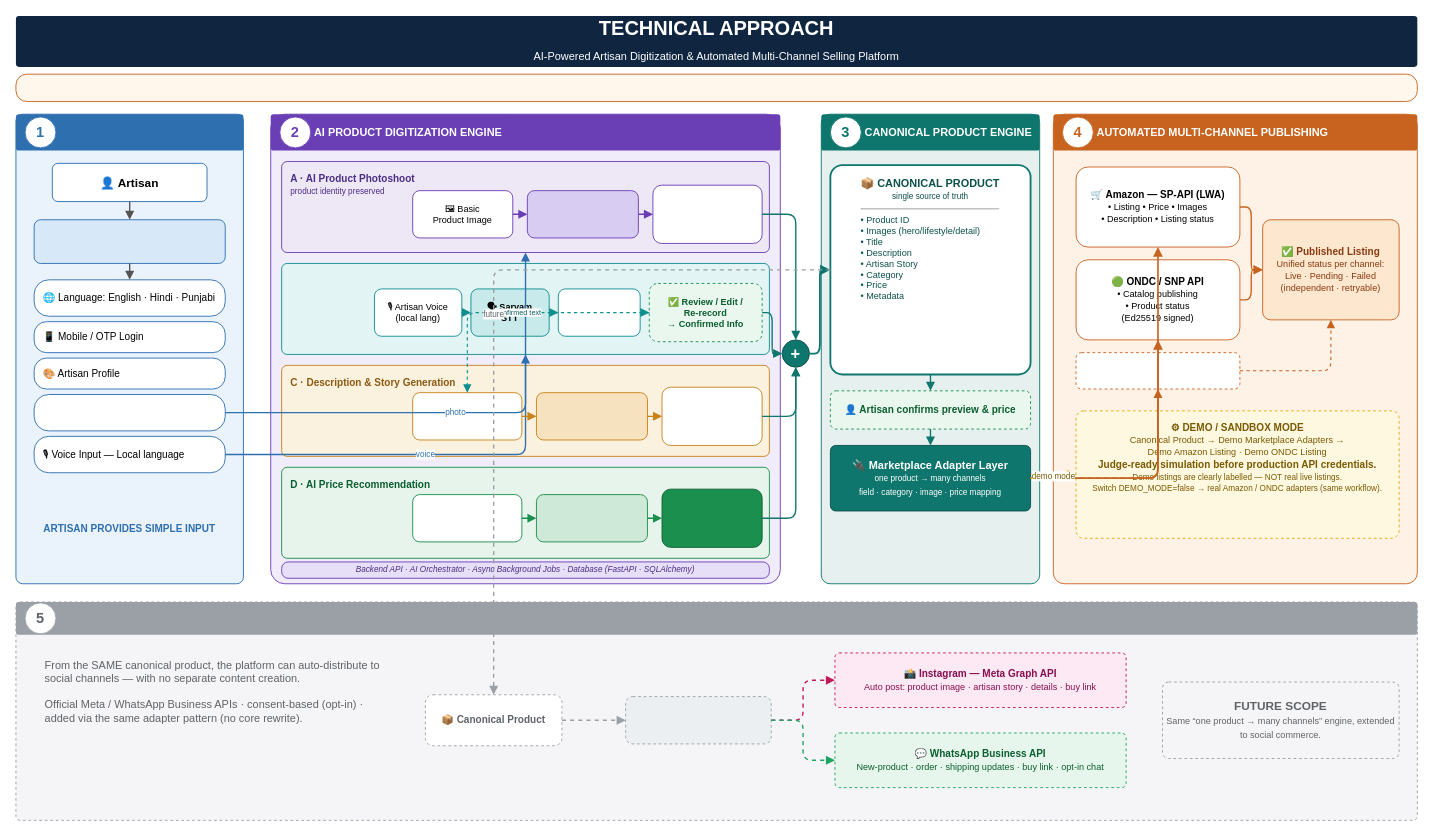
Image size: 1433x836. Some labels were removed from this diagram. Here are the shapes that lost their labels. From the top down, the box of each, then its label:
(15, 73, 1417, 101): ONE ARTISAN INPUT → ONE CANONICAL PRODUCT → AUTOMATIC MULTI-CHANNEL DISTRIBUTION
(15, 114, 243, 150): ARTISAN ONBOARDING & INPUT
(526, 190, 638, 238): AI Image Model Gemini / FLUX / demo
(652, 184, 762, 243): 📸 Professional Photos Hero · Lifestyle · Detail
(33, 219, 225, 263): 🌐 Mobile-First Web App React · Vite · Tailwind (PWA)
(281, 263, 769, 354): B · Speech-to-Text HI / PA / EN
(557, 288, 640, 336): 📝 Transcription
(1075, 352, 1240, 389): ➕ Future Marketplaces
(33, 394, 225, 431): 📷 Product Photo — Camera / Upload
(412, 392, 522, 440): Confirmed Text + Category
(536, 392, 647, 440): ✍ Description Model (LLM)
(661, 386, 762, 445): Title · Short Detailed · Story
(412, 494, 522, 542): Product + Cost Information
(536, 494, 647, 542): 💰 Price Model scikit-learn .pkl
(661, 488, 762, 547): ₹ Suggested Price + Price Range
(15, 602, 1417, 634): FUTURE SOCIAL COMMERCE — FUTURE SCOPE (not part of current MVP)
(625, 696, 771, 744): 🔗 Social Automation Engine
